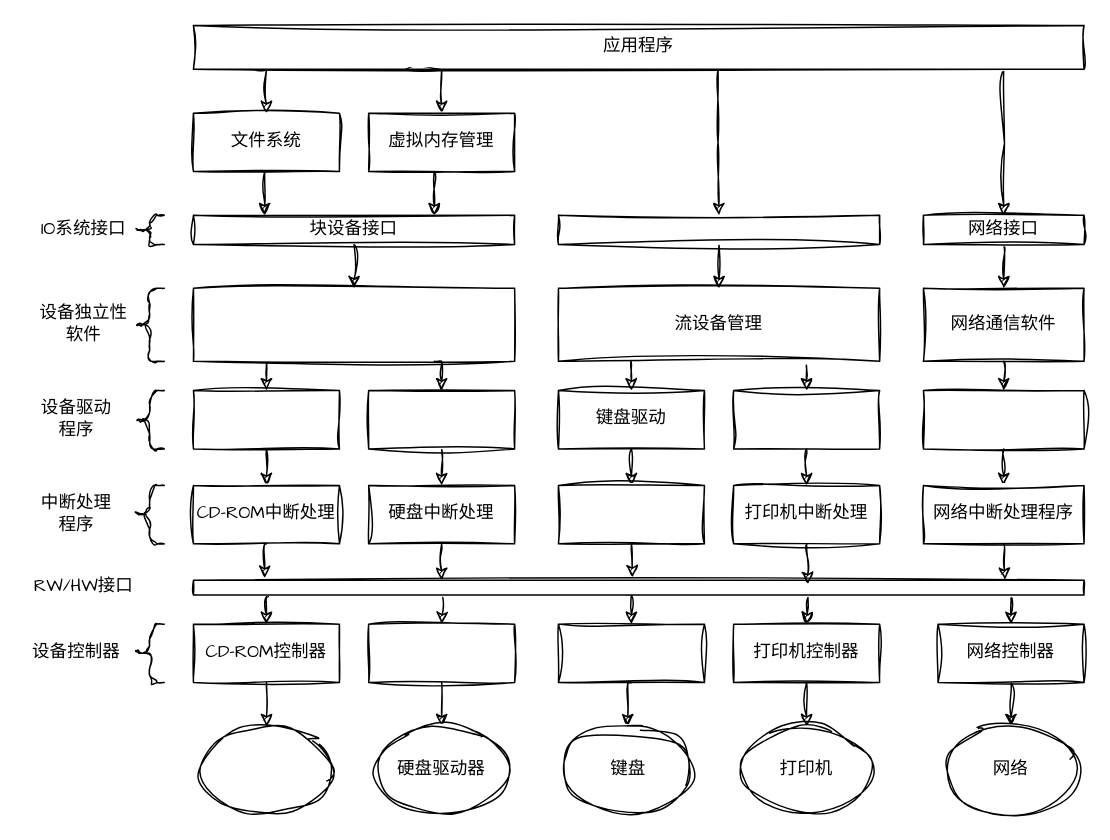
Some shapes in this 1110 by 840 pixel diagram are drawn without their labels. Here are the shapes that lost their labels. From the top down, the centre of each, then its label:
[718,229]: 流设备接口
[353,324]: 块设备管理
[265,419]: CD-ROM驱动
[441,419]: 硬盘驱动
[806,419]: 打印机驱动
[1003,419]: 网络驱动
[630,514]: 键盘中断处理
[441,653]: 硬盘控制器
[630,653]: 键盘控制器
[265,769]: 光盘驱动器
